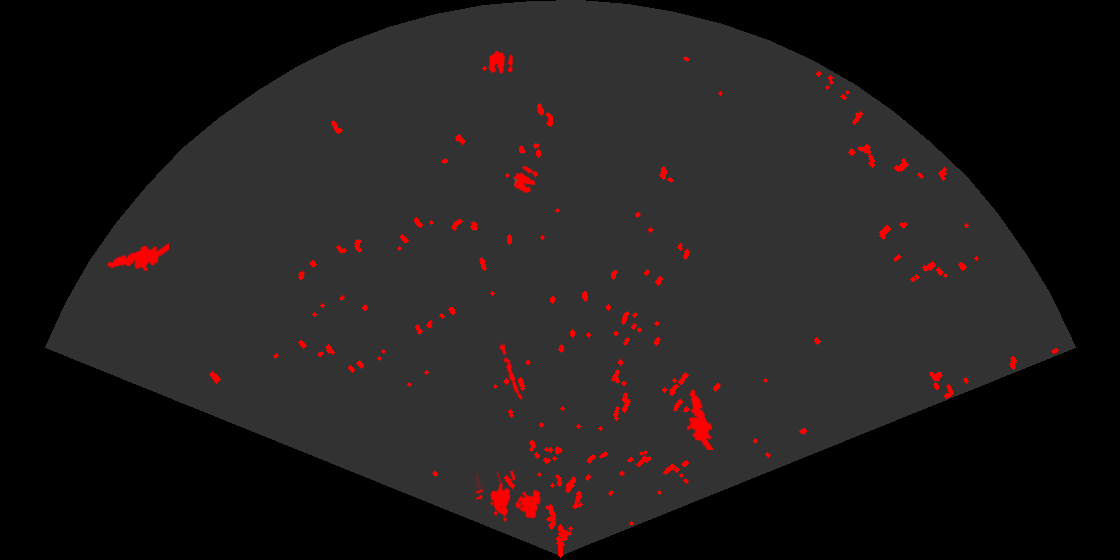ball: (512, 164, 540, 195), (487, 49, 514, 76)
cage: (476, 471, 542, 523)
chain: (497, 342, 525, 405)
frogman: (105, 242, 169, 273), (685, 388, 715, 450)
